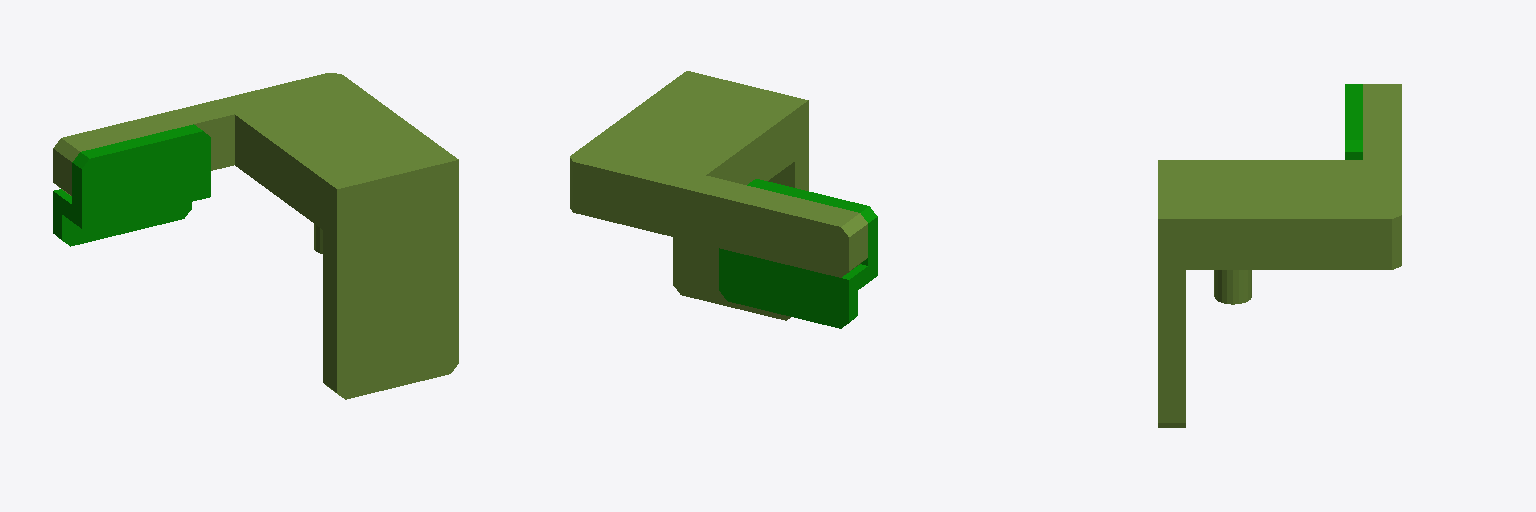
The model's file is chuck_s_R.obj.
The picture shows the model from 3 angles: view 1: azimuth 30°, elevation 25°; view 2: azimuth 150°, elevation 25°; view 3: azimuth 270°, elevation 25°; orthographic projection.
Parts seen in each view (by area): view 1: chuck_s_R.001; view 2: chuck_s_R.001; view 3: chuck_s_R.001.
Boxes of the visible parts, x1,y1,x2,y2 form: chuck_s_R.001: [53, 73, 458, 399]; chuck_s_R.001: [570, 71, 877, 328]; chuck_s_R.001: [1158, 84, 1401, 427].
Size of the model in its own units: 0.35 by 0.25 by 0.26.